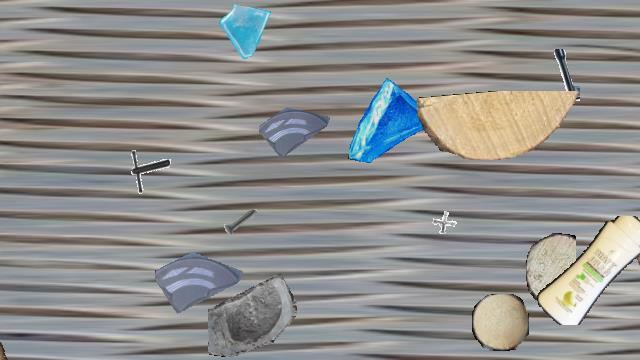glass: (346, 77, 440, 171), (208, 271, 296, 359), (155, 234, 243, 322), (259, 91, 331, 163), (218, 1, 276, 59)
metal: (522, 49, 580, 107), (122, 147, 170, 195), (220, 201, 262, 243), (426, 203, 466, 243)
plastic: (534, 216, 640, 324)
wood: (417, 91, 583, 159), (526, 233, 576, 305), (472, 294, 528, 350), (613, 220, 640, 322), (0, 265, 11, 359)
